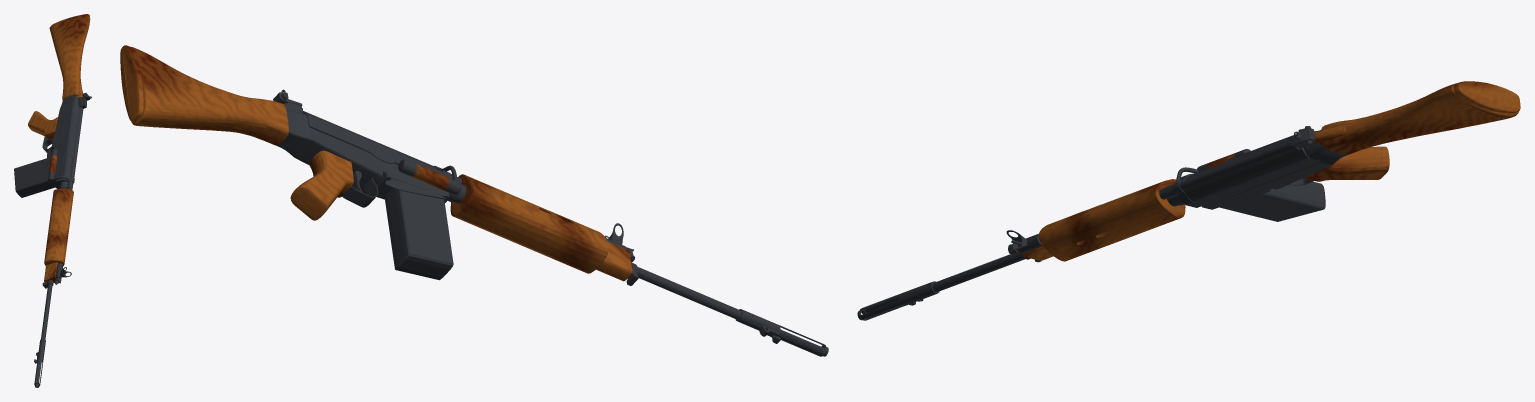
Rendered from mhw_jaldmic_l1a1.glb.
The picture shows the model from 3 angles, left to right: view 1: azimuth 30°, elevation 25°; view 2: azimuth 150°, elevation 25°; view 3: azimuth 270°, elevation 25°; orthographic projection. The views are drawn at different scales.
Visible parts, largest first — view 1: mhw_jaldmic_l1a1; view 2: mhw_jaldmic_l1a1; view 3: mhw_jaldmic_l1a1.
Part boxes in pixels (left/top/right/bottom): mhw_jaldmic_l1a1: left=14, top=14, right=91, bottom=387; mhw_jaldmic_l1a1: left=120, top=45, right=828, bottom=356; mhw_jaldmic_l1a1: left=857, top=81, right=1520, bottom=320.
Bounding box in the file's own units: 0.7021 × 0.7088 × 0.9864.
Materials: 1 (1 with a texture image).
